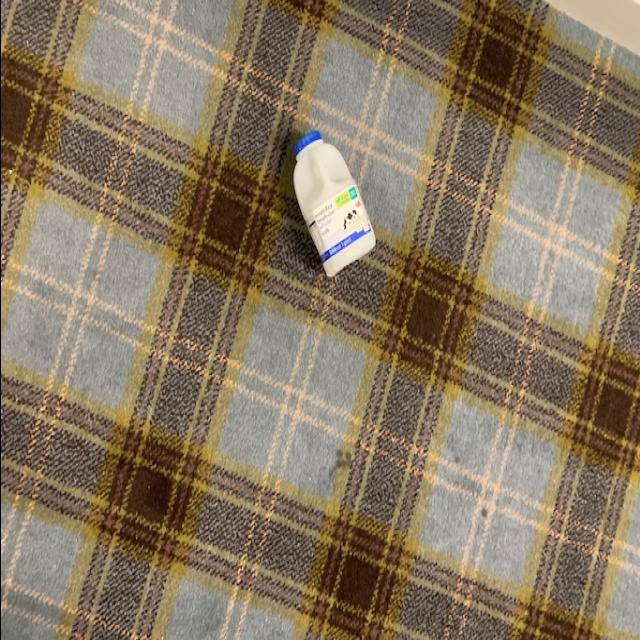HDPEM: (286, 119, 376, 299)
